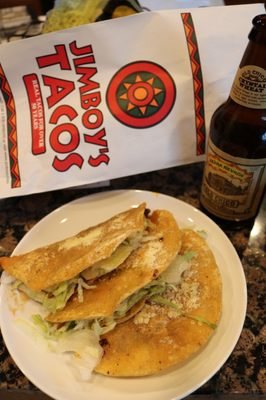soup: (1, 200, 199, 379), (0, 201, 186, 331)
